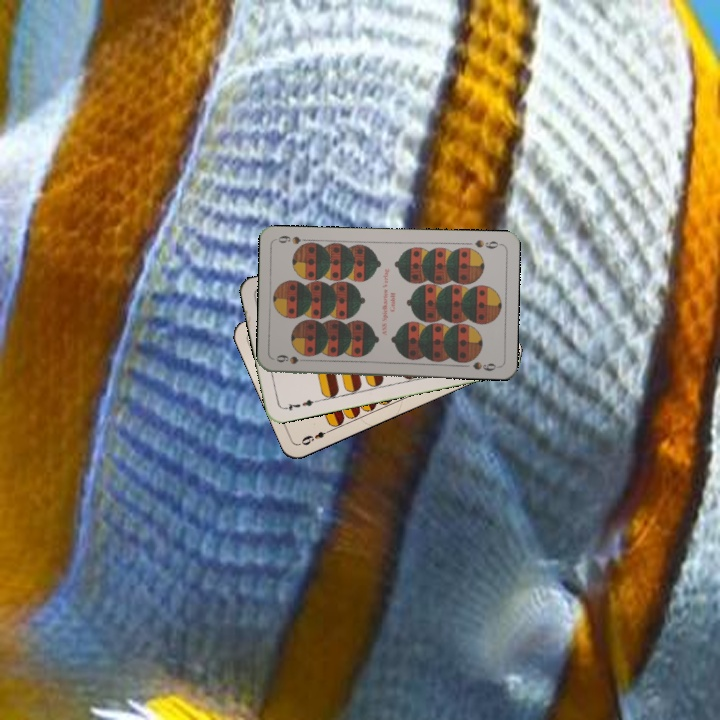E7: (280, 395, 320, 413)
E9: (297, 425, 334, 448)
S9: (272, 351, 312, 366), (471, 236, 503, 251)
